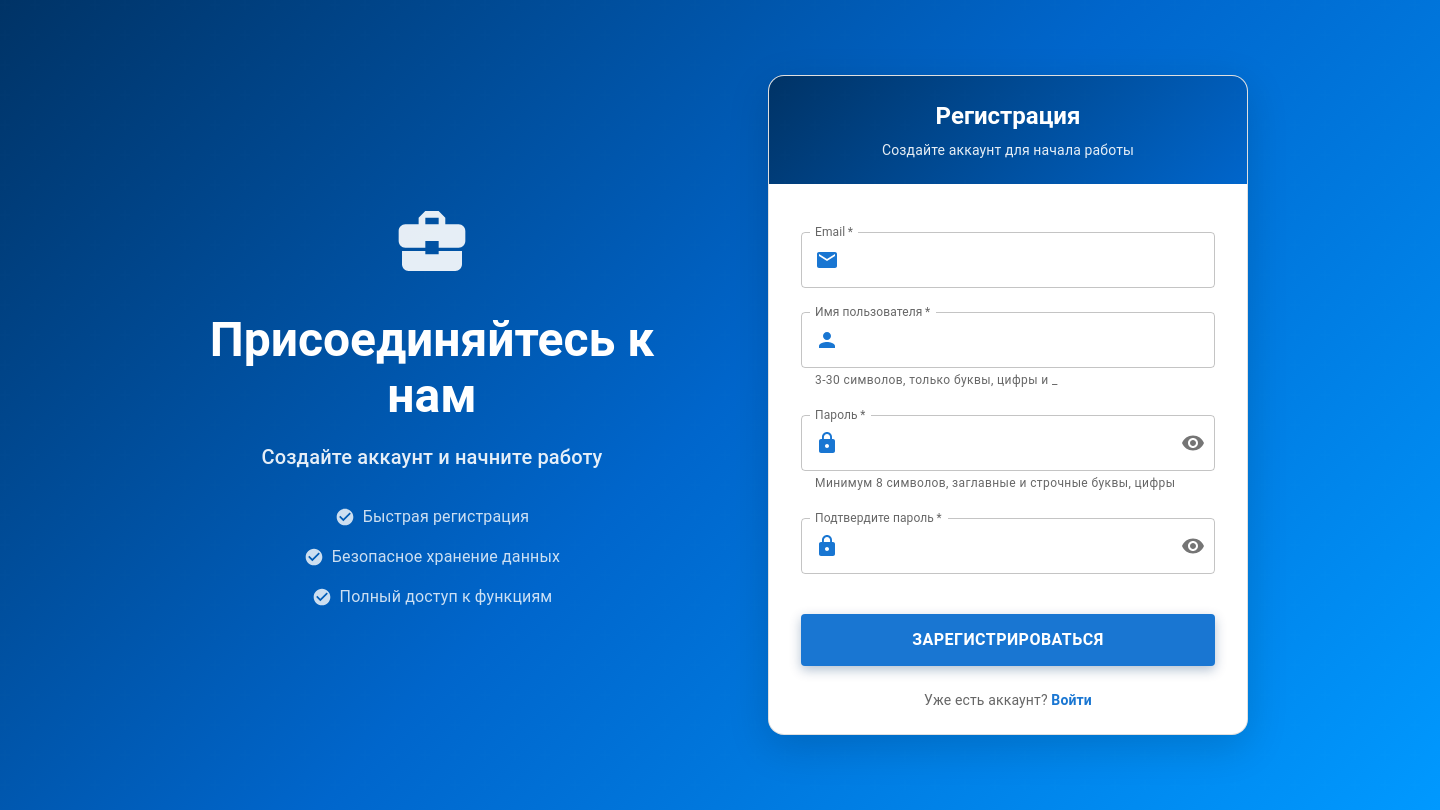
Test: RegisterPage › shows password strength indicator
The image size is (1440, 810).
// There are two password fields - get the first one (password)
Type "TestPassword123" into the password field labelled "Пароль *".
click(1006, 443); type("TestPassword123")  # box [847, 415, 1165, 471]
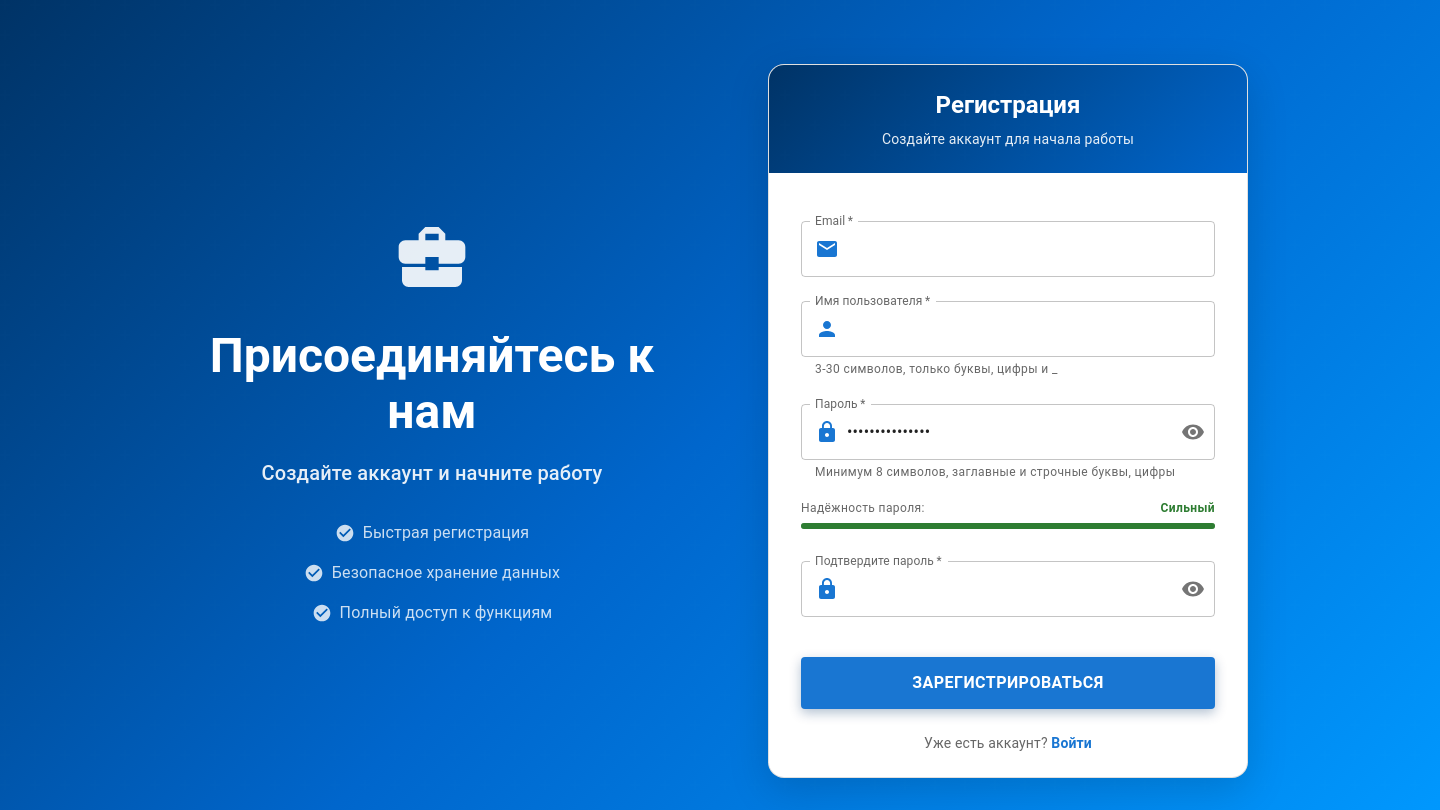
expect the text "Надёжность пароля:" is shown: met, box [801, 499, 925, 519]
